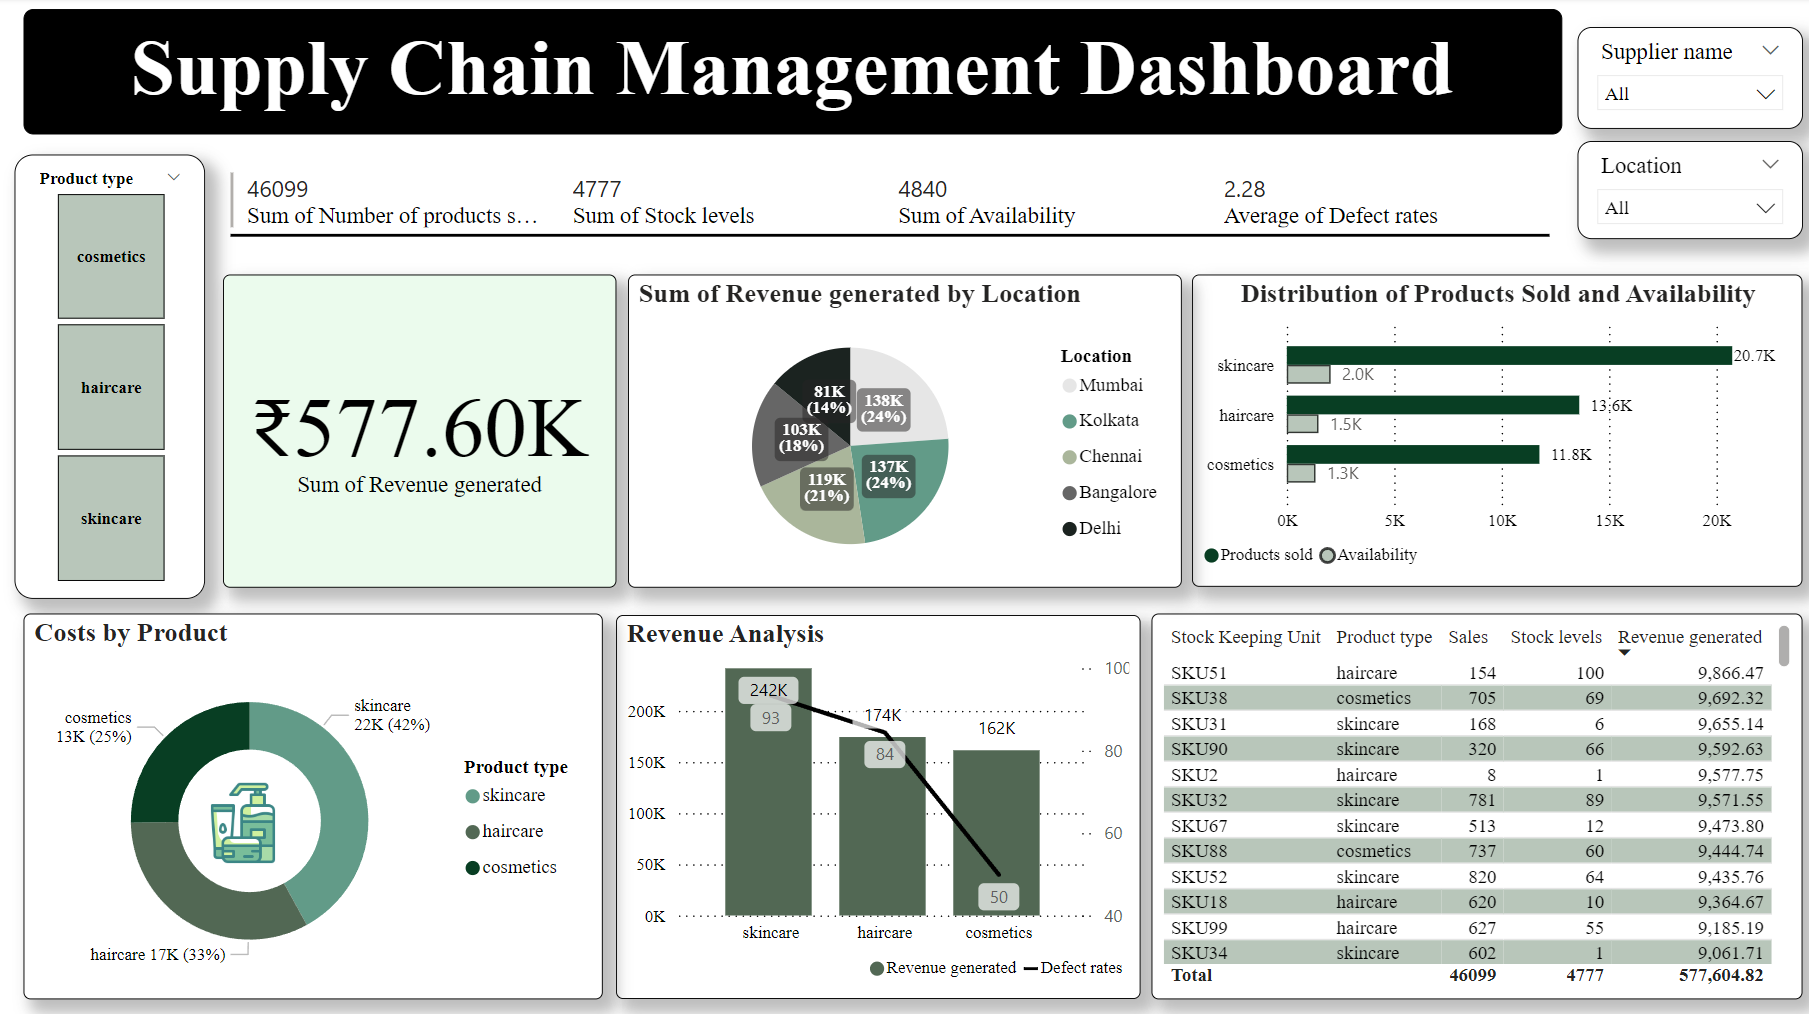

Layout of this report page (visuals, bound fields, positions):
{"tool":"powerbi","page":{"name":"Page2","canvas":[1280,720],"ordinal":0},"visuals":[{"type":"textbox","box":[17.7,8.3,1087.3,88.4],"z":0},{"type":"multiRowCard","fields":{"Values":["Sum(supply_chain_data.Number of products sold)","Sum(supply_chain_data.Stock levels)","Sum(supply_chain_data.Availability)","Avg(supply_chain_data.Defect rates)"]},"box":[159,118.7,942.3,64.7],"z":2000},{"type":"slicer","fields":{"Values":["supply_chain_data.Product type"]},"box":[11.7,111.3,134.6,313.7],"z":3000},{"type":"card","fields":{"Values":["Sum(supply_chain_data.Revenue generated)"]},"box":[159,196.1,277.7,221.5],"z":4000},{"type":"lineClusteredColumnComboChart","title":"Revenue Analysis","fields":{"Category":["supply_chain_data.Product type"],"Y":["Sum(supply_chain_data.Revenue generated)"],"Y2":["Sum(supply_chain_data.Defect rates)"]},"box":[436.7,436.7,371,271.3],"z":5000},{"type":"donutChart","title":"Costs by Product ","fields":{"Y":["Sum(supply_chain_data.Costs)"],"Category":["supply_chain_data.Product type"]},"box":[17.7,435.5,409.6,272.3],"z":6000},{"type":"tableEx","fields":{"Values":["supply_chain_data.SKU","supply_chain_data.Product type","Sum(supply_chain_data.Number of products sold)","Sum(supply_chain_data.Stock levels)","Sum(supply_chain_data.Revenue generated)"]},"box":[815.1,435.6,460,272.4],"z":7000},{"type":"clusteredBarChart","title":"Distribution of Products Sold and Availability ","fields":{"Y":["Sum(supply_chain_data.Number of products sold)","Sum(supply_chain_data.Availability)"],"Category":["supply_chain_data.Product type"]},"box":[843.7,196.1,431.4,220.5],"z":9000},{"type":"pieChart","fields":{"Category":["supply_chain_data.Location"],"Y":["Sum(supply_chain_data.Revenue generated)"]},"box":[445.2,196.1,391.1,221.5],"z":10000},{"type":"slicer","fields":{"Values":["supply_chain_data.Supplier name"]},"box":[1116.4,20.8,159,71.7],"z":11000},{"type":"slicer","fields":{"Values":["supply_chain_data.Location"]},"box":[1116.4,101.9,159,69.6],"z":12000},{"type":"image","box":[135.1,547.8,70.7,70.7],"z":13001}]}

Visuals, with their boxes in screenshot pixels (x1, y1, x2, y2), scaled from the page's 1280x720 canvas onto the 1809x1014 screenshot:
textbox: box=[25, 12, 1562, 136]
multiRowCard - Sum(supply_chain_data.Number of products sold) x Sum(supply_chain_data.Stock levels): box=[225, 167, 1556, 258]
slicer - supply_chain_data.Product type: box=[17, 157, 207, 599]
card - Sum(supply_chain_data.Revenue generated): box=[225, 276, 617, 588]
"Revenue Analysis" lineClusteredColumnComboChart: box=[617, 615, 1142, 997]
"Costs by Product " donutChart: box=[25, 613, 604, 997]
tableEx - supply_chain_data.SKU x supply_chain_data.Product type: box=[1152, 613, 1802, 997]
"Distribution of Products Sold and Availability " clusteredBarChart: box=[1192, 276, 1802, 587]
pieChart - supply_chain_data.Location x Sum(supply_chain_data.Revenue generated): box=[629, 276, 1182, 588]
slicer - supply_chain_data.Supplier name: box=[1578, 29, 1802, 130]
slicer - supply_chain_data.Location: box=[1578, 144, 1802, 242]
image: box=[191, 771, 291, 871]
